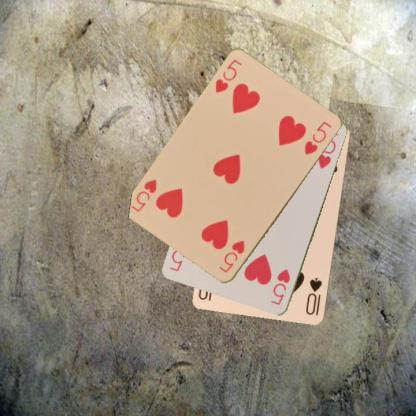10s: (304, 275, 324, 317)
5h: (212, 56, 243, 94), (216, 238, 246, 275), (268, 266, 292, 307)
